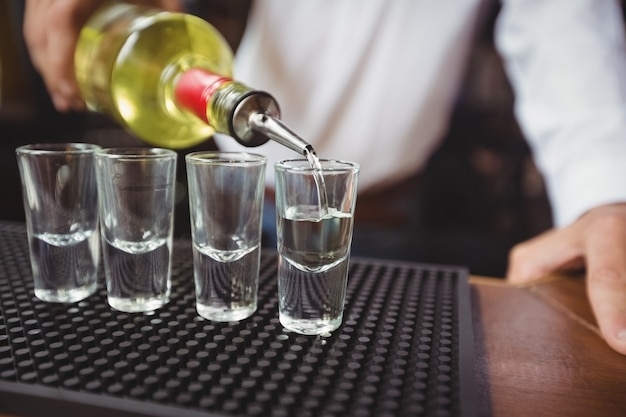alcohol: (48, 0, 316, 155), (276, 154, 360, 335), (183, 148, 267, 325), (89, 148, 179, 313), (13, 138, 103, 301)
